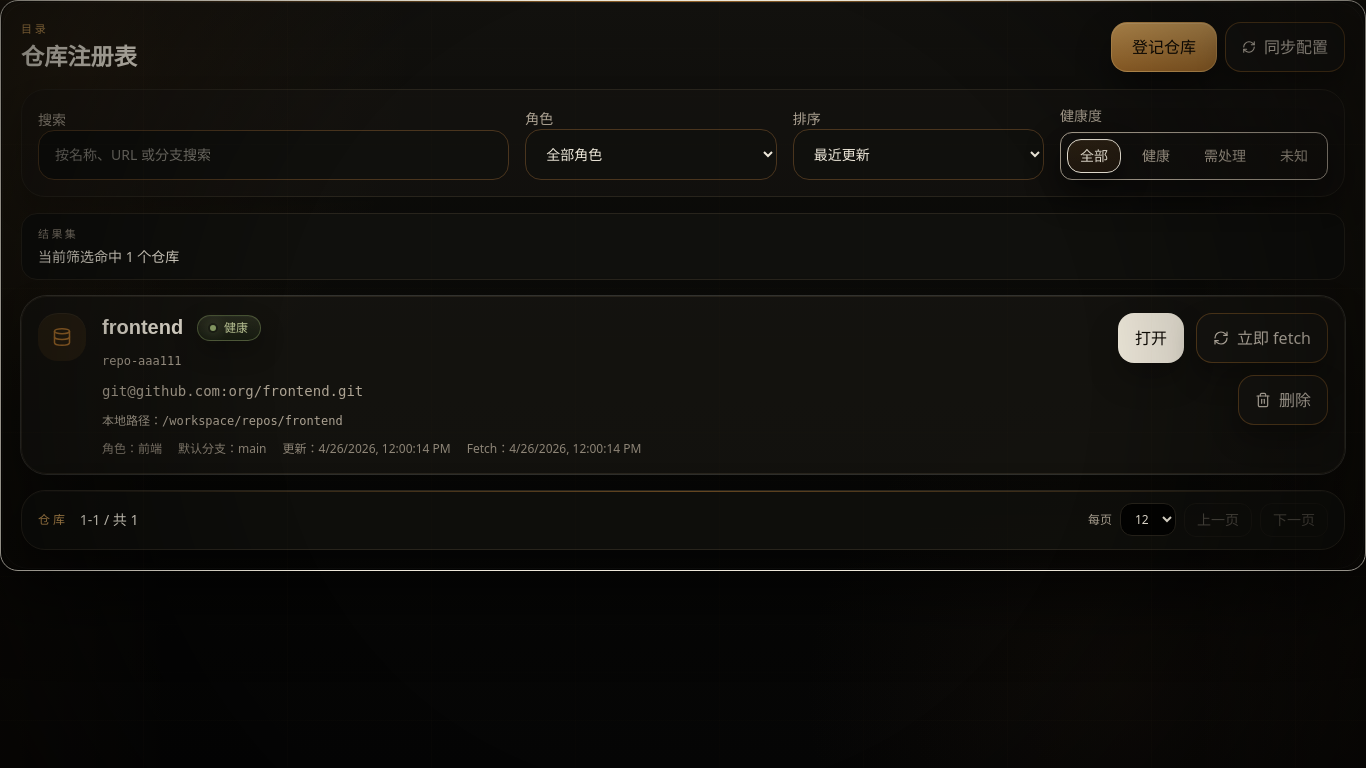
Scenario: ReposPage › confirms before delete and surfaces 409 error
Click the button "删除": (1283, 400) [1238, 375, 1328, 425]
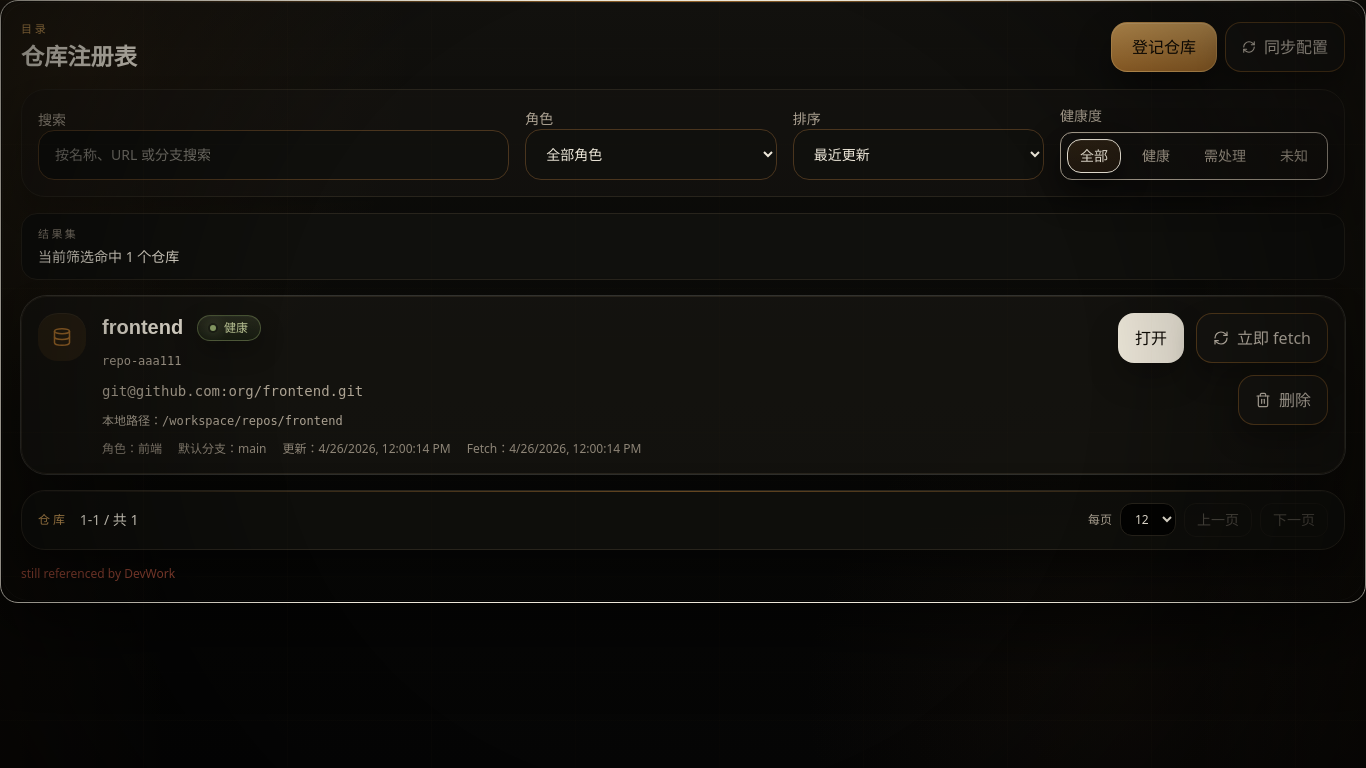
Now the text "still referenced by DevWork" is shown, box [21, 565, 175, 582]
